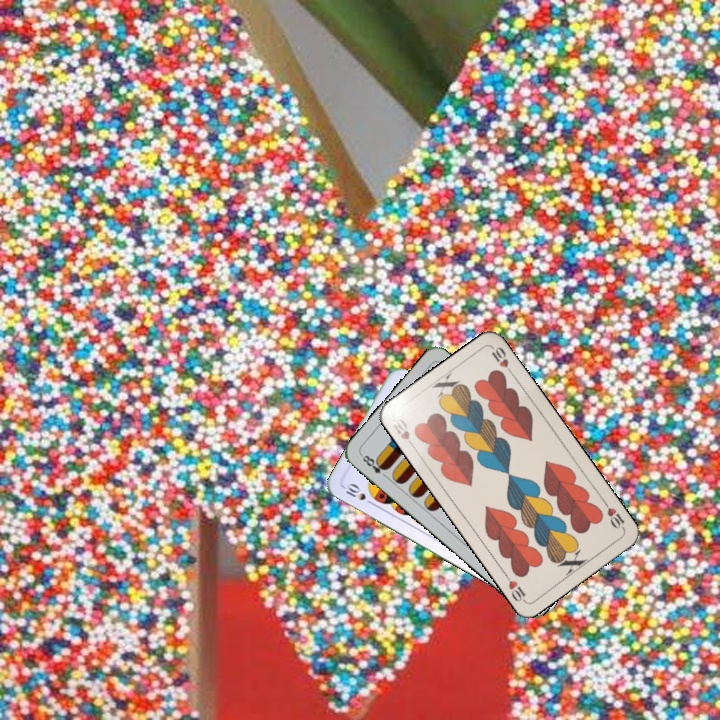E8: (357, 450, 391, 481)
H10: (389, 414, 417, 450), (599, 497, 627, 532)
S10: (340, 479, 377, 508)
